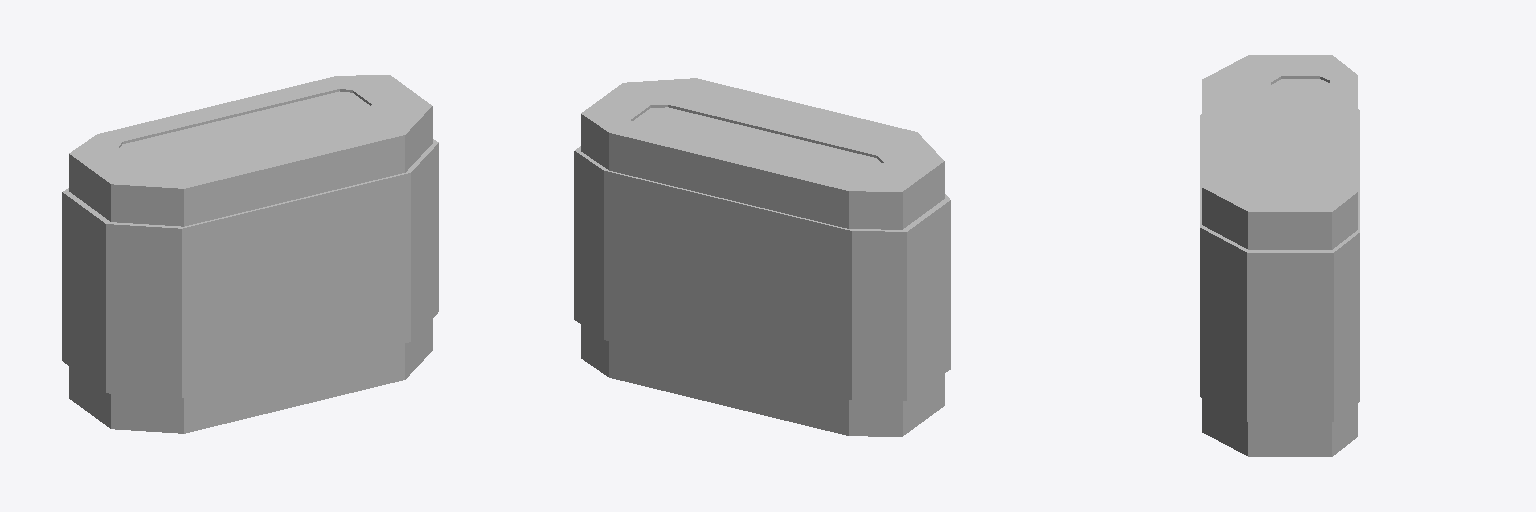
Rendered from tank_brown_chassis.obj.
The picture shows the model from 3 angles: view 1: azimuth 30°, elevation 25°; view 2: azimuth 150°, elevation 25°; view 3: azimuth 270°, elevation 25°; orthographic projection.
Visible parts, largest first — view 1: tank_body.005_Cube.011; view 2: tank_body.005_Cube.011; view 3: tank_body.005_Cube.011.
Boxes of the visible parts, x1=… form: tank_body.005_Cube.011: x1=62, y1=75, x2=438, y2=433; tank_body.005_Cube.011: x1=574, y1=78, x2=950, y2=436; tank_body.005_Cube.011: x1=1200, y1=55, x2=1359, y2=456.
Size of the model in its own units: 49.47 by 34.79 by 20.71.